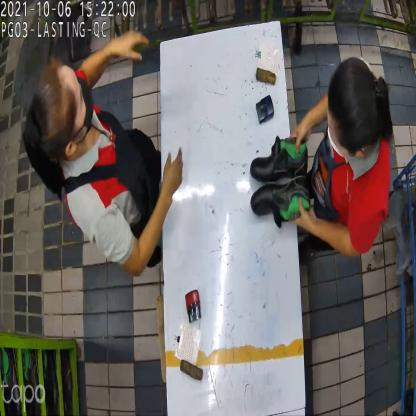shoes: (249, 136, 316, 230)
stamp: (184, 290, 203, 327), (255, 94, 275, 127)
